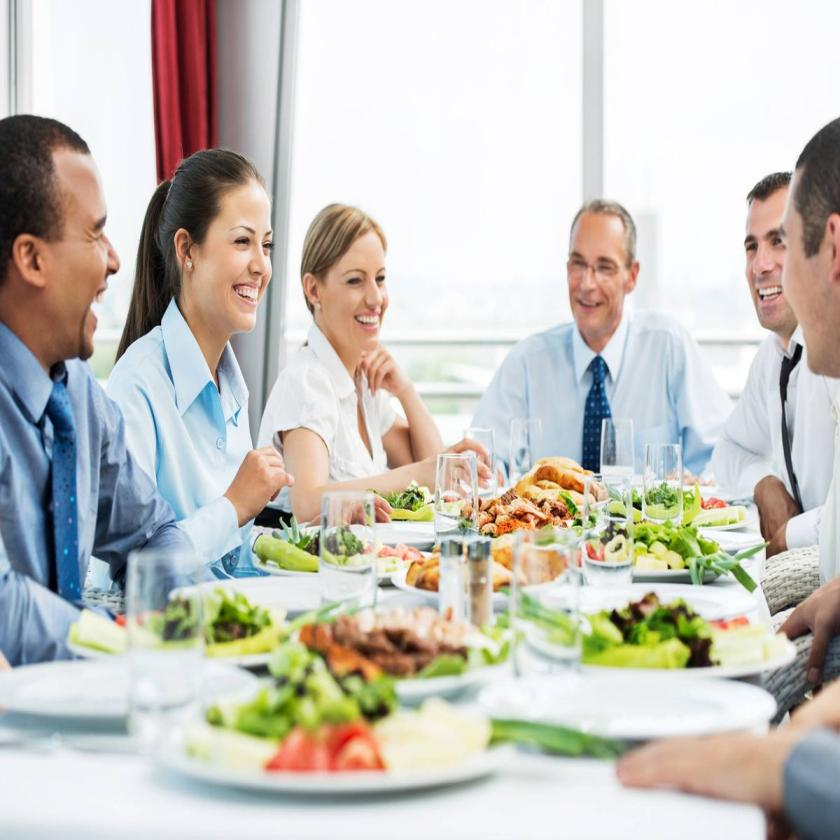Sin_casco: (0, 100, 128, 361), (160, 142, 287, 345), (772, 103, 840, 397), (301, 194, 398, 358), (562, 188, 643, 338), (735, 163, 798, 340)
